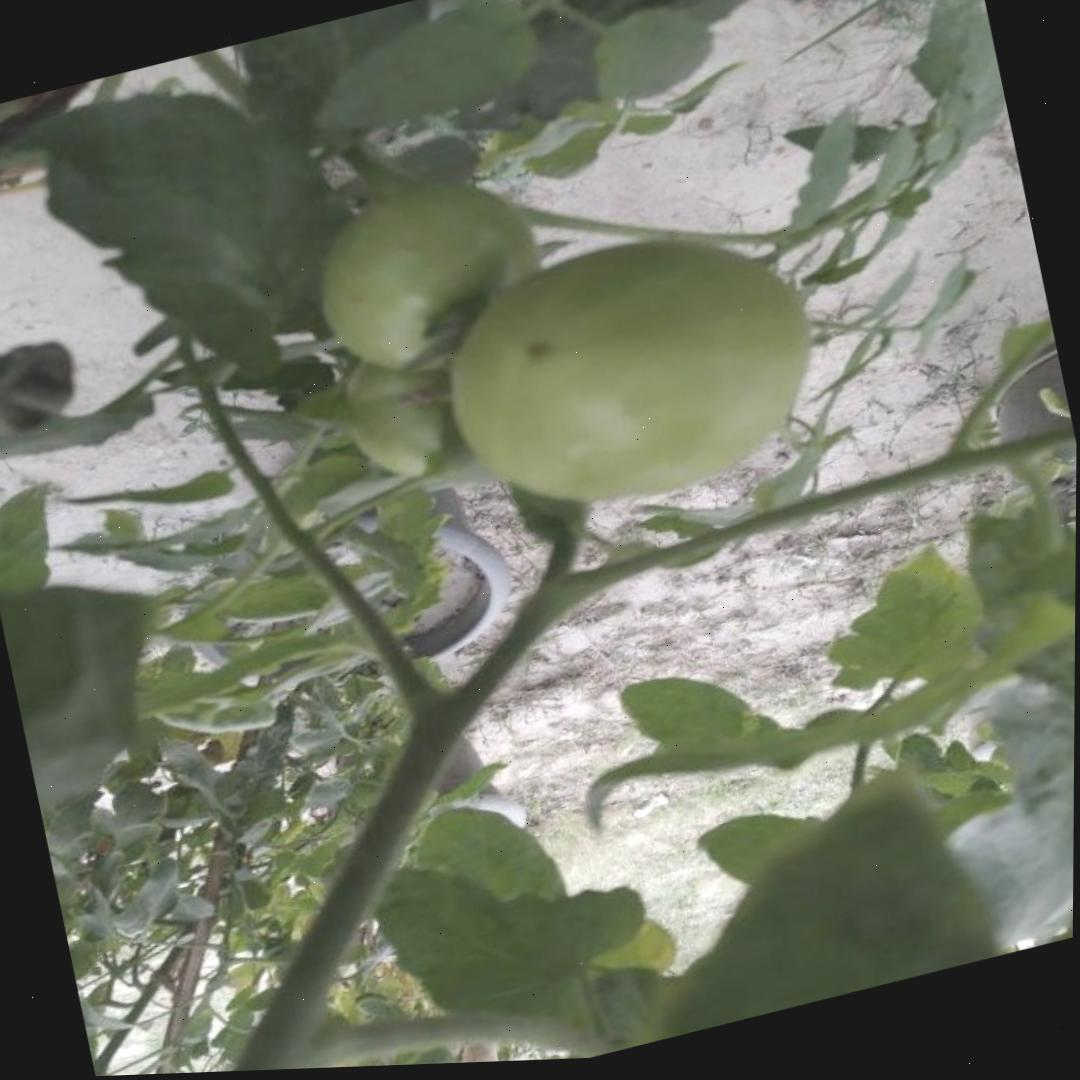mentah: (423, 200, 840, 544), (300, 154, 560, 397)
